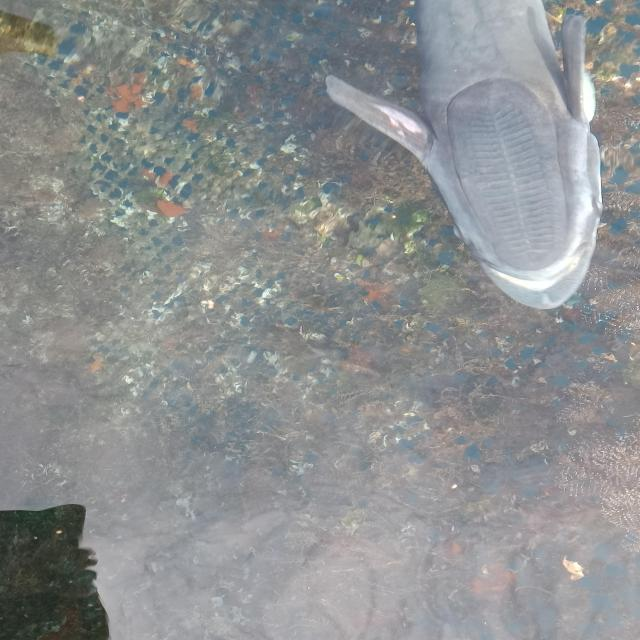ikan: (322, 0, 604, 310)
